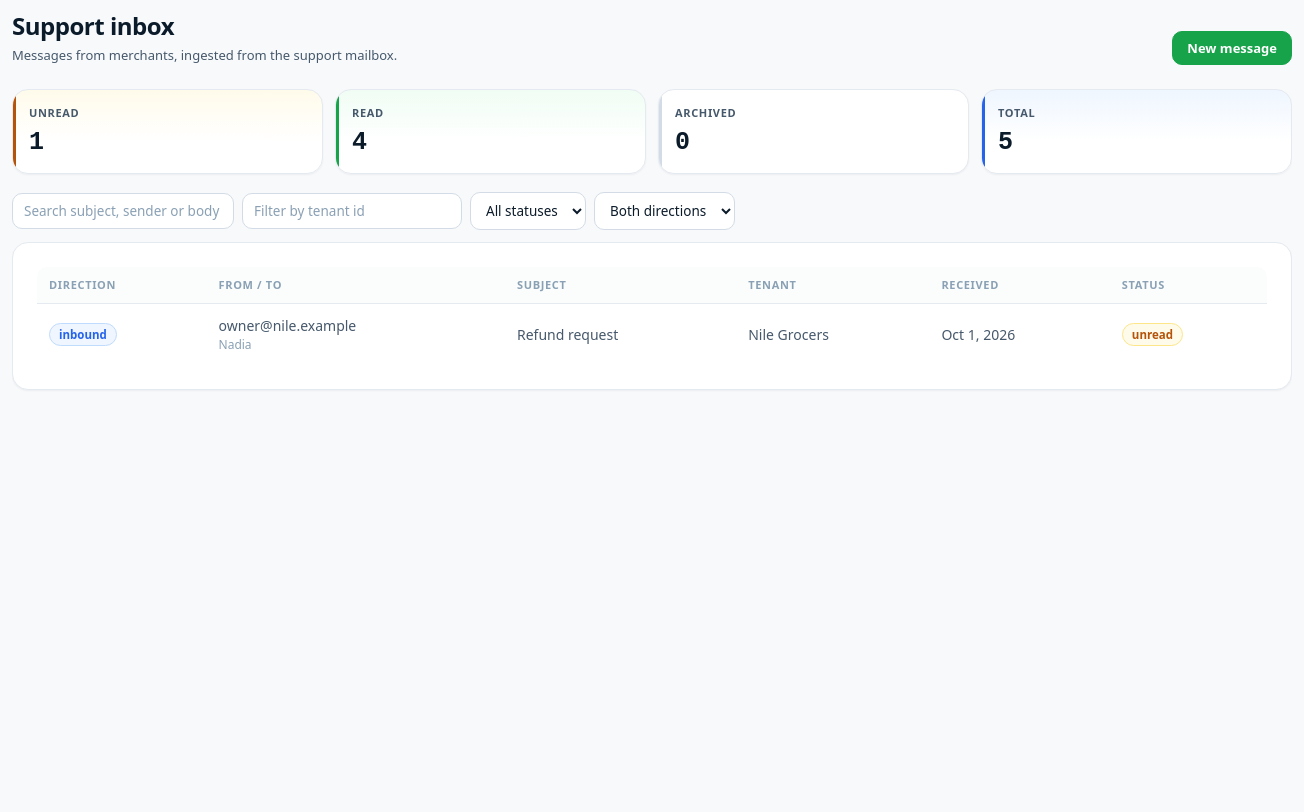
it: SupportInboxPage › shows the summary and marks an unread message read on open
The width and height of the screenshot is (1304, 812).
Expected: the text "Nile Grocers" is shown, [736,304,929,365]
Expected: the text "Unread" is shown, [29,105,79,120]
Click the text "Refund request" at (621, 334), box [505,304,736,365]
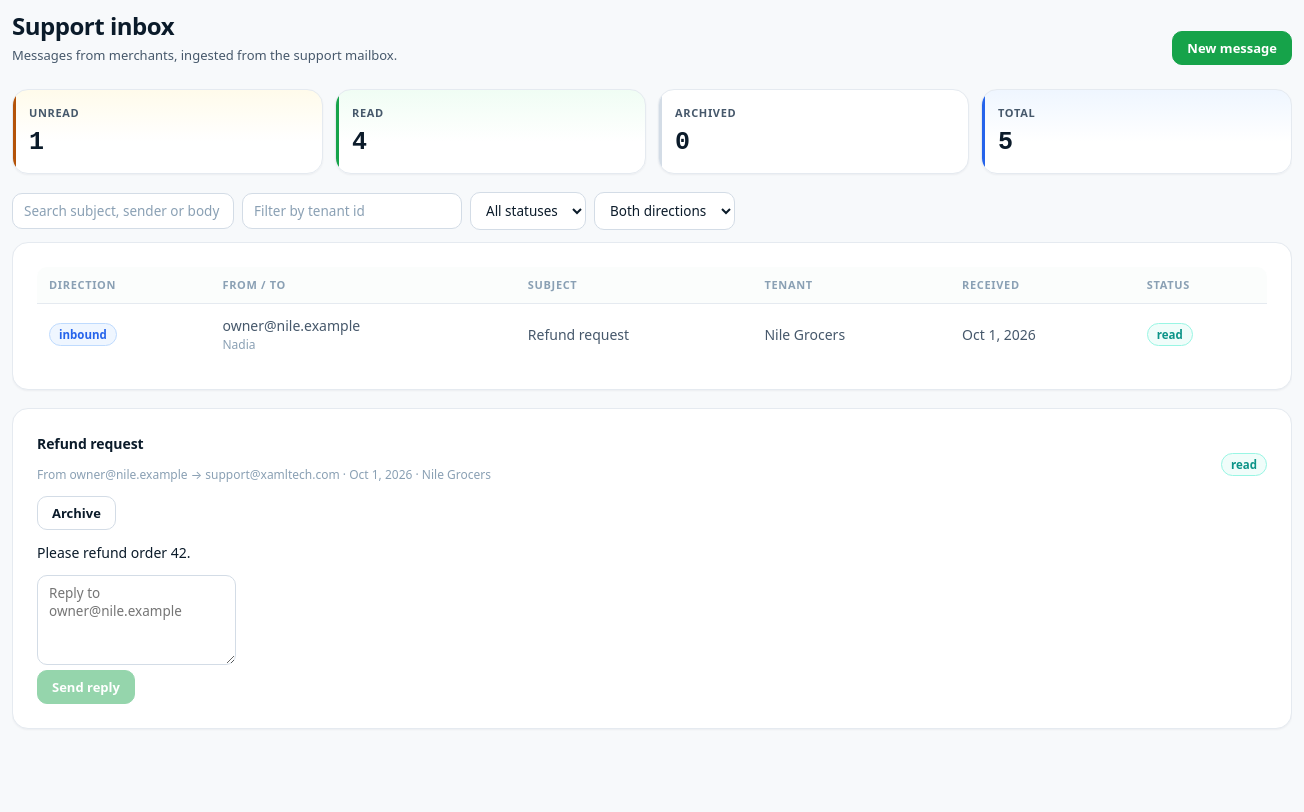
Expected: the text "Please refund order 42." is shown, [37,543,190,562]
